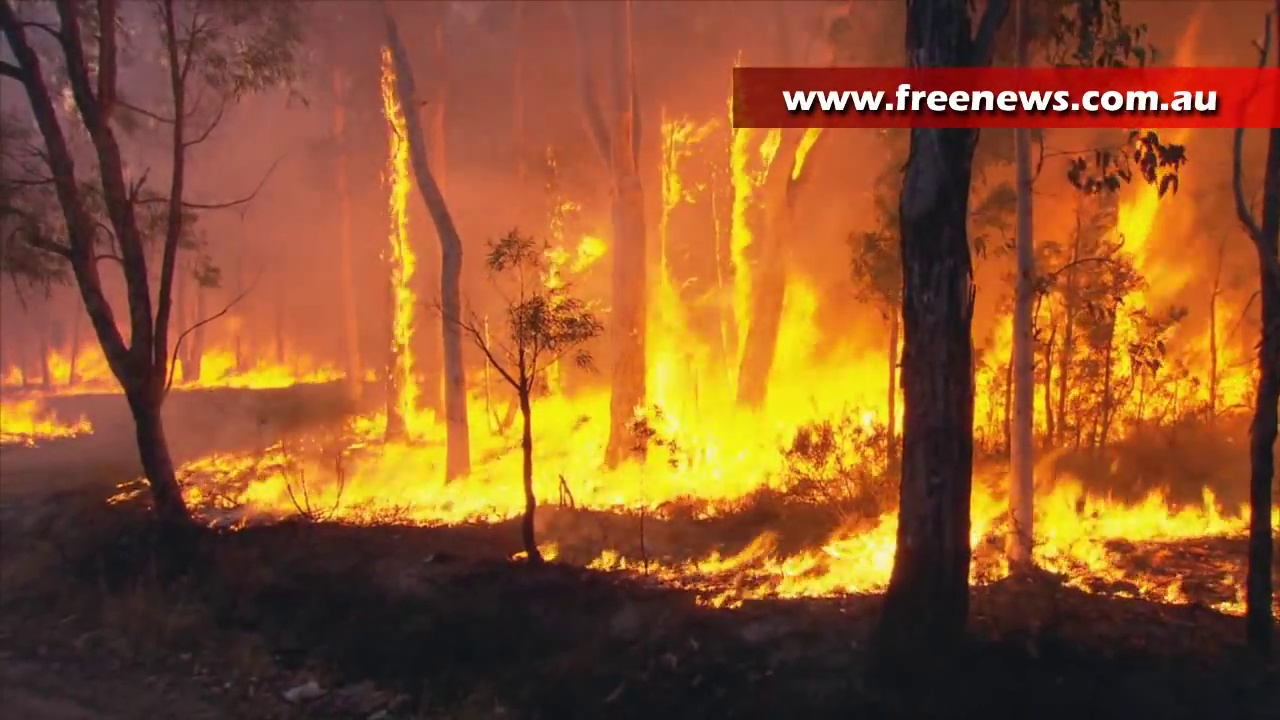fire: (179, 338, 903, 524), (976, 193, 1251, 431), (658, 128, 817, 336), (1031, 472, 1248, 618), (588, 519, 899, 607), (381, 52, 415, 400), (969, 480, 1004, 588), (544, 228, 607, 287), (196, 348, 286, 389), (45, 344, 121, 390), (1, 405, 89, 440), (539, 541, 558, 561)
